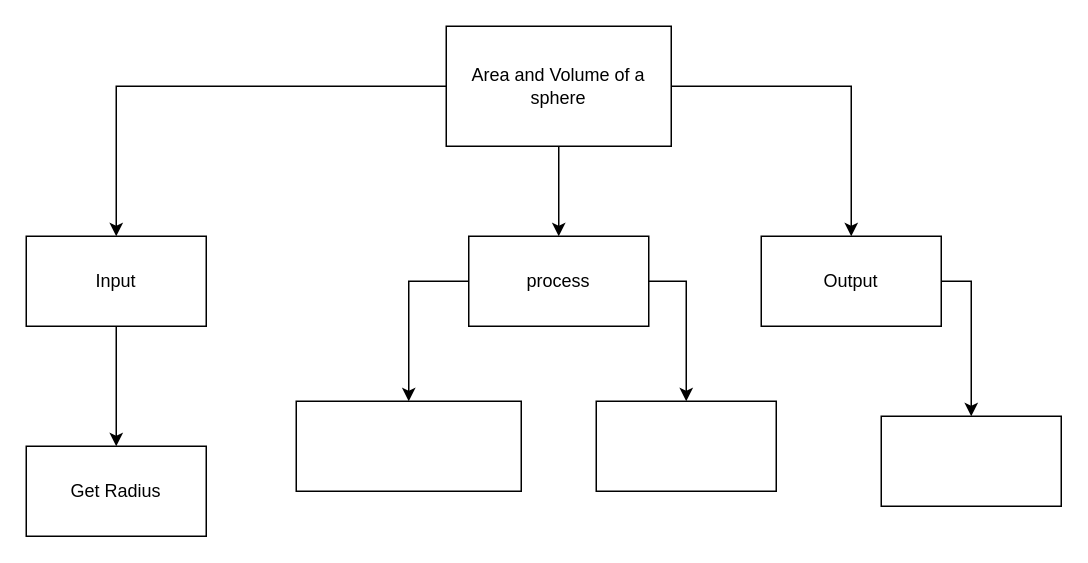
This 1088x563 diagram has some shape labels left out. Here are the shapes that lost their labels. From the top down, the centre of each, then its label:
(408,445): Surface area = A=4 * π * r 2
(685,445): Volume = 4 / 3 * π * r 3
